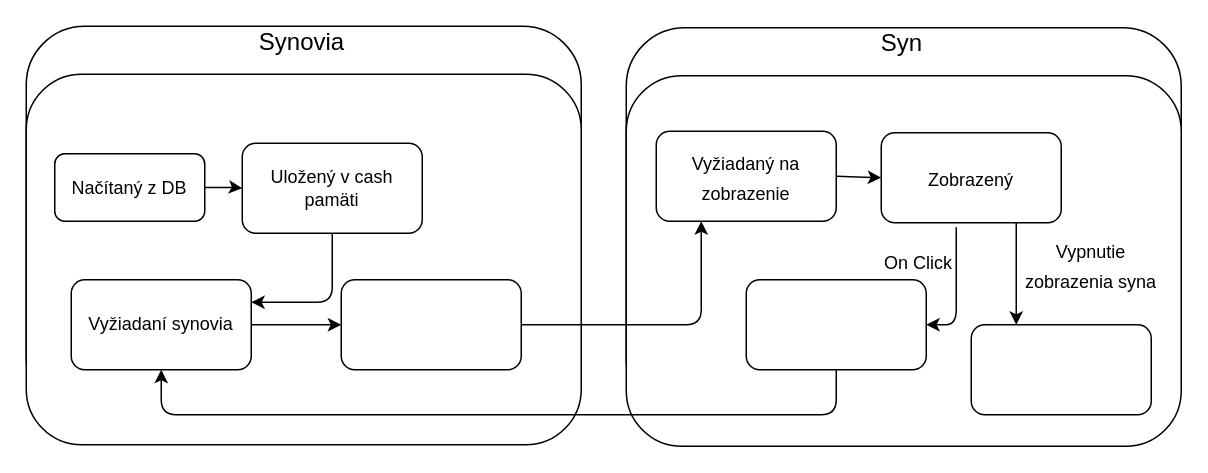
This 1208x473 diagram has some shape labels left out. The shapes that lost their labels are listed below. From the top down, each one's box as (x1, y1, x2, y2) in pixels, then its label:
(340, 278, 521, 370): Vybraní z cash pamäti
(745, 278, 926, 370): Vyžiadanie synov z pamäte
(970, 323, 1151, 415): Uzavretý a vymazaný zo zobrazenia
